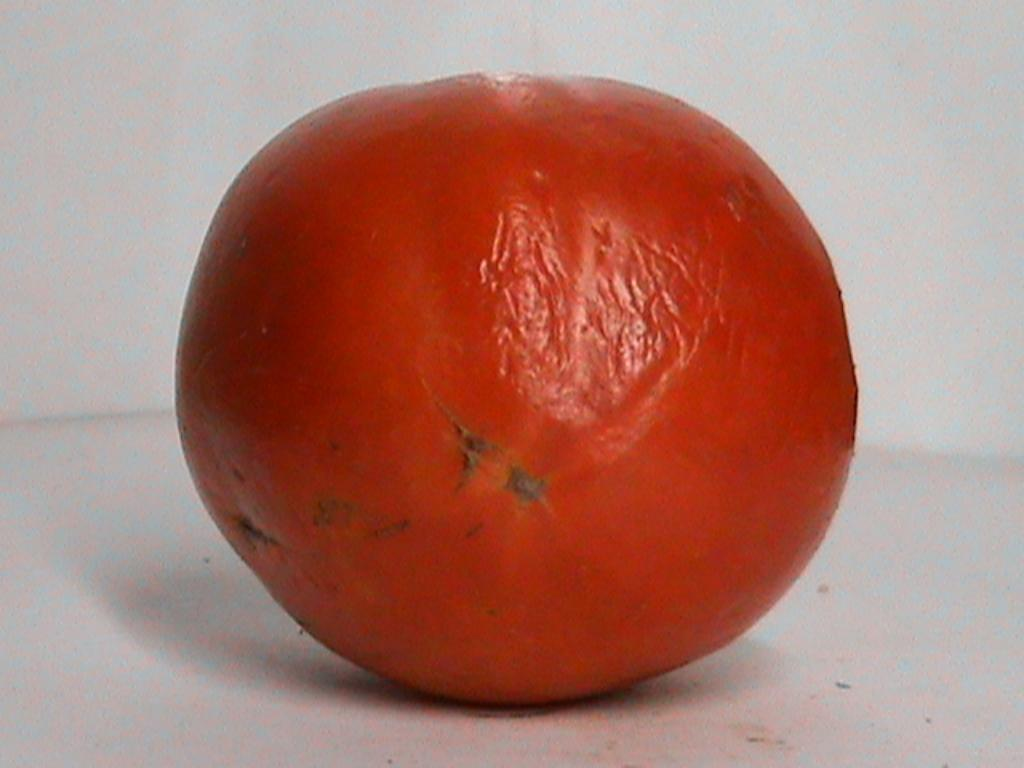bruise_discoloration: (477, 172, 732, 436)
surface_damage: (438, 402, 496, 490), (501, 464, 544, 501), (235, 515, 278, 542), (314, 499, 358, 525), (368, 522, 410, 538), (467, 523, 483, 536)
tomato: (176, 77, 856, 702)
